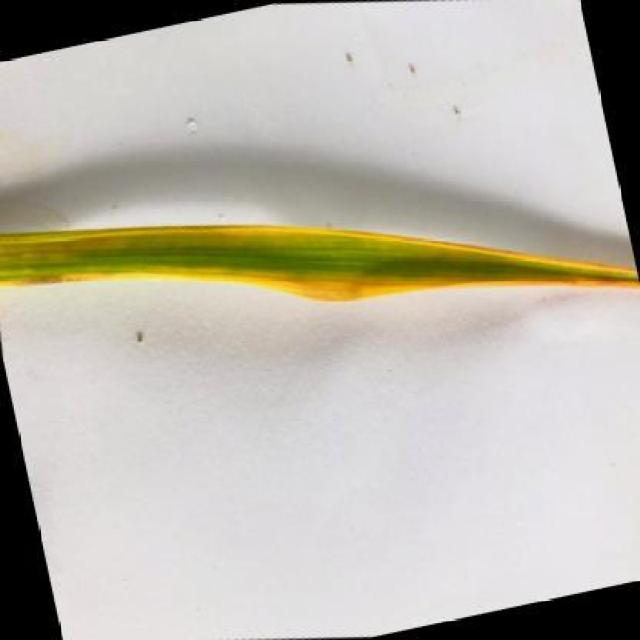Rice False Smut: (0, 90, 640, 436)
